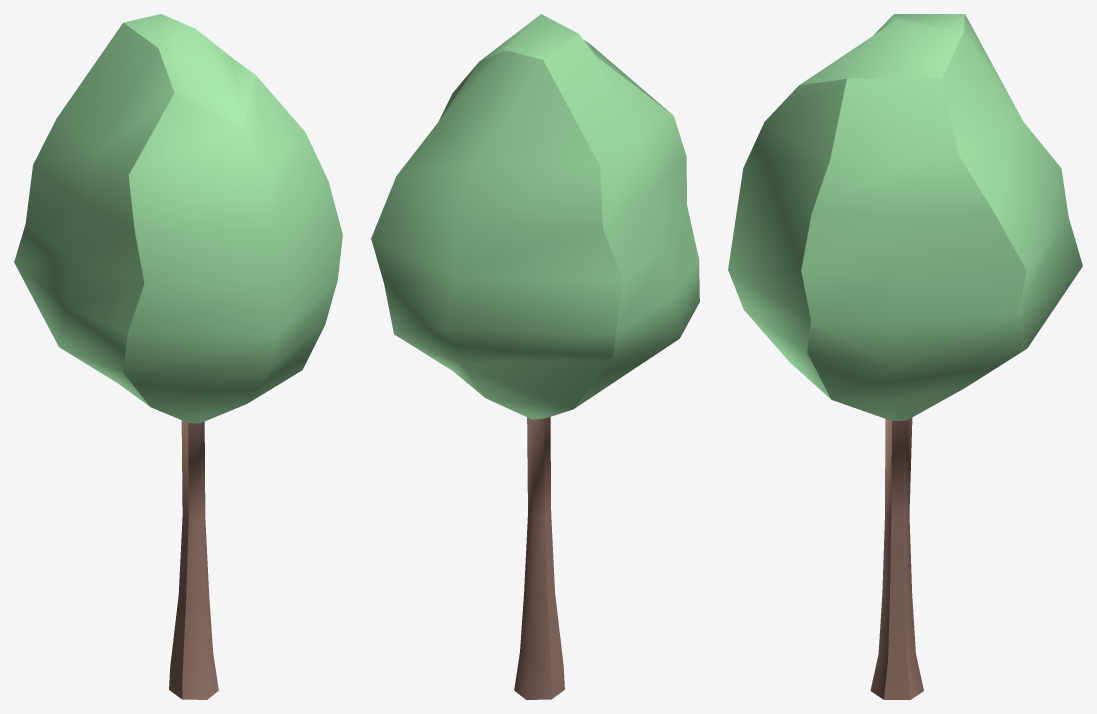
Rendered from tree5.fbx.
3 views of the same model, side by side, from view 1: azimuth 30°, elevation 25°; view 2: azimuth 150°, elevation 25°; view 3: azimuth 270°, elevation 25° (orthographic).
Parts seen in each view (by area): view 1: tree5; view 2: tree5; view 3: tree5.
Part boxes in pixels (x1,y1,x2,y2): tree5: (14, 14, 342, 699); tree5: (371, 14, 699, 699); tree5: (728, 14, 1082, 699).
Size of the model in its own units: 19.56 by 48.6 by 23.36.
